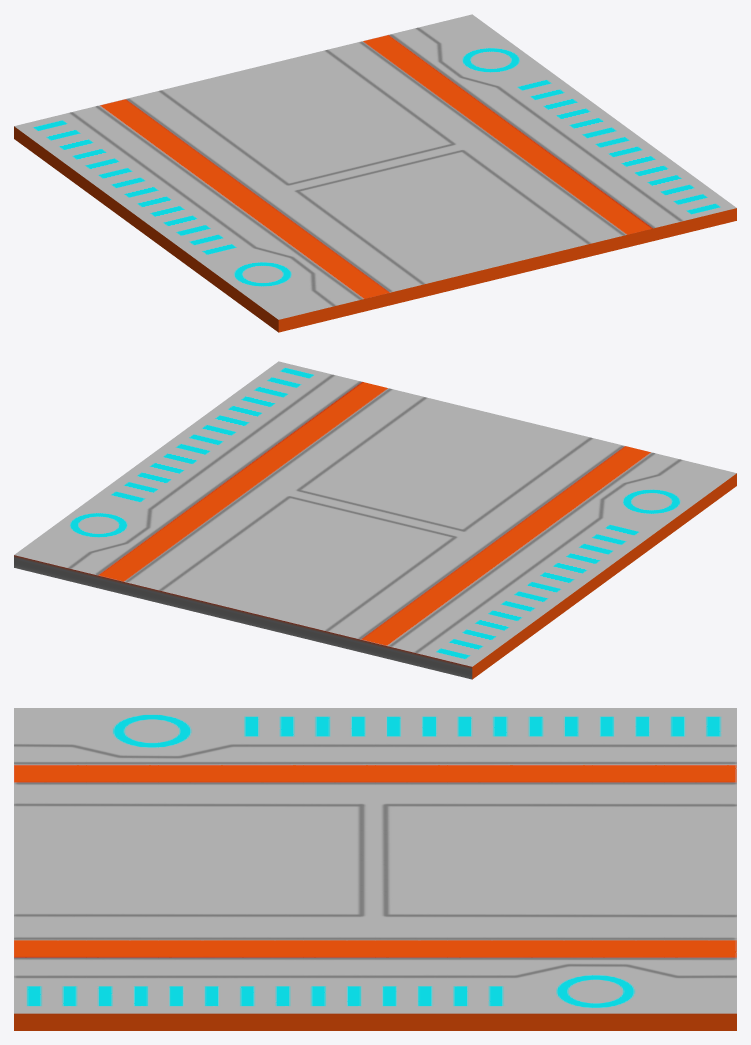
File: floor2.fbx
The picture shows the model from 3 angles, top to bottom: view 1: azimuth 30°, elevation 25°; view 2: azimuth 150°, elevation 25°; view 3: azimuth 270°, elevation 25°; orthographic projection. The views are drawn at different scales.
Visible parts, largest first — view 1: floor2; view 2: floor2; view 3: floor2.
Boxes of the visible parts, left/top/right/bottom form: floor2: left=14, top=14, right=736, bottom=332; floor2: left=14, top=361, right=736, bottom=679; floor2: left=14, top=708, right=736, bottom=1030.
Bounding box in the file's own units: 16 × 0.4243 × 16.
